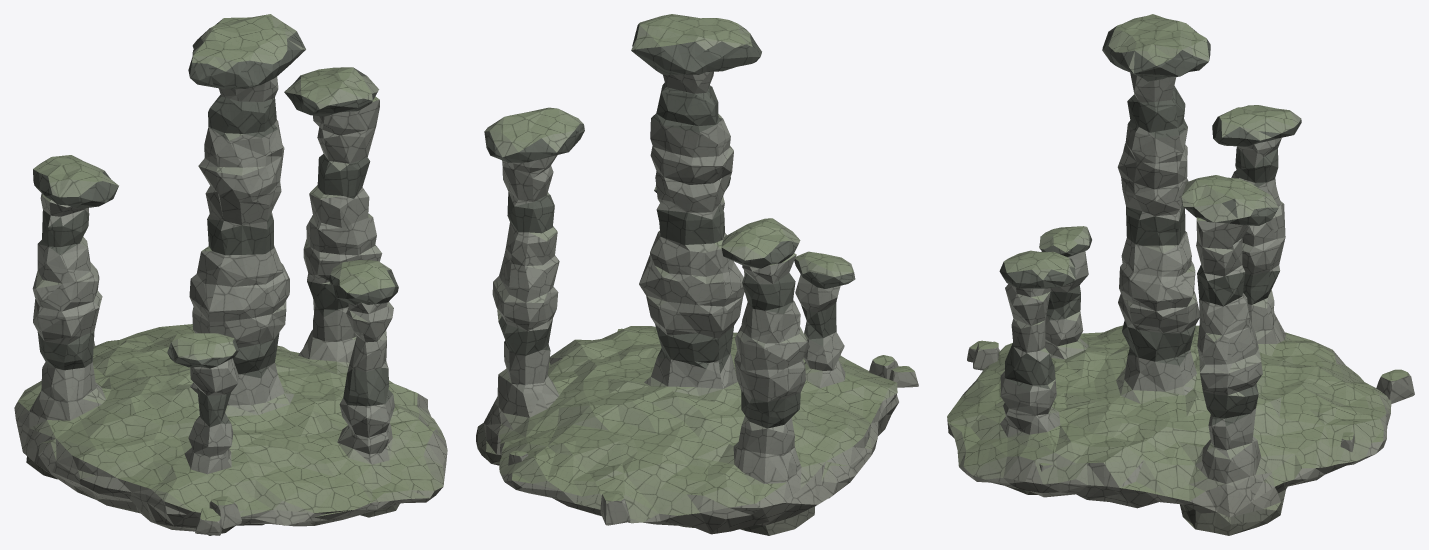
Rendered from hoodoo_cluster.glb.
The picture shows the model from 3 angles, left to right: view 1: azimuth 30°, elevation 25°; view 2: azimuth 150°, elevation 25°; view 3: azimuth 270°, elevation 25°; orthographic projection. The views are drawn at different scales.
Visible parts, largest first — view 1: hoodoo_cluster.001; view 2: hoodoo_cluster.001; view 3: hoodoo_cluster.001.
Part boxes in pixels (x1,y1,x2,y2): hoodoo_cluster.001: (14,14,447,535); hoodoo_cluster.001: (476,14,918,535); hoodoo_cluster.001: (947,14,1414,535).
Size of what is drawn, in the model's own units: 11.37 by 13.18 by 13.21.
Materials: 2 (2 with a texture image).
